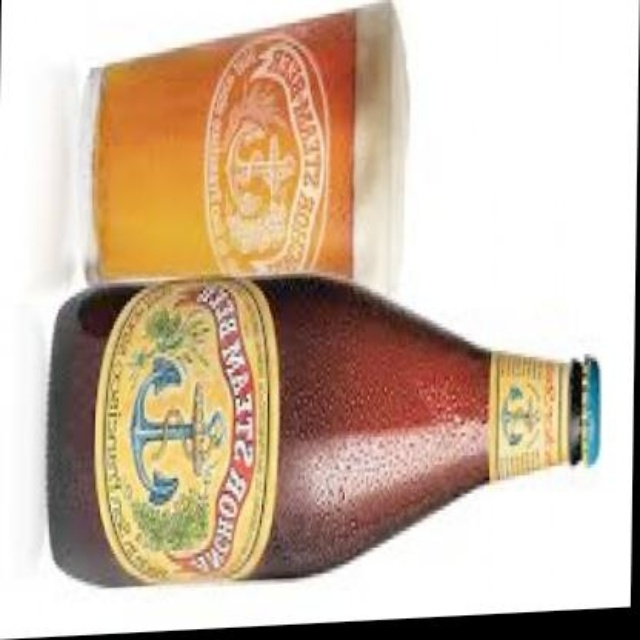trash: (48, 277, 566, 585), (94, 3, 406, 291)
